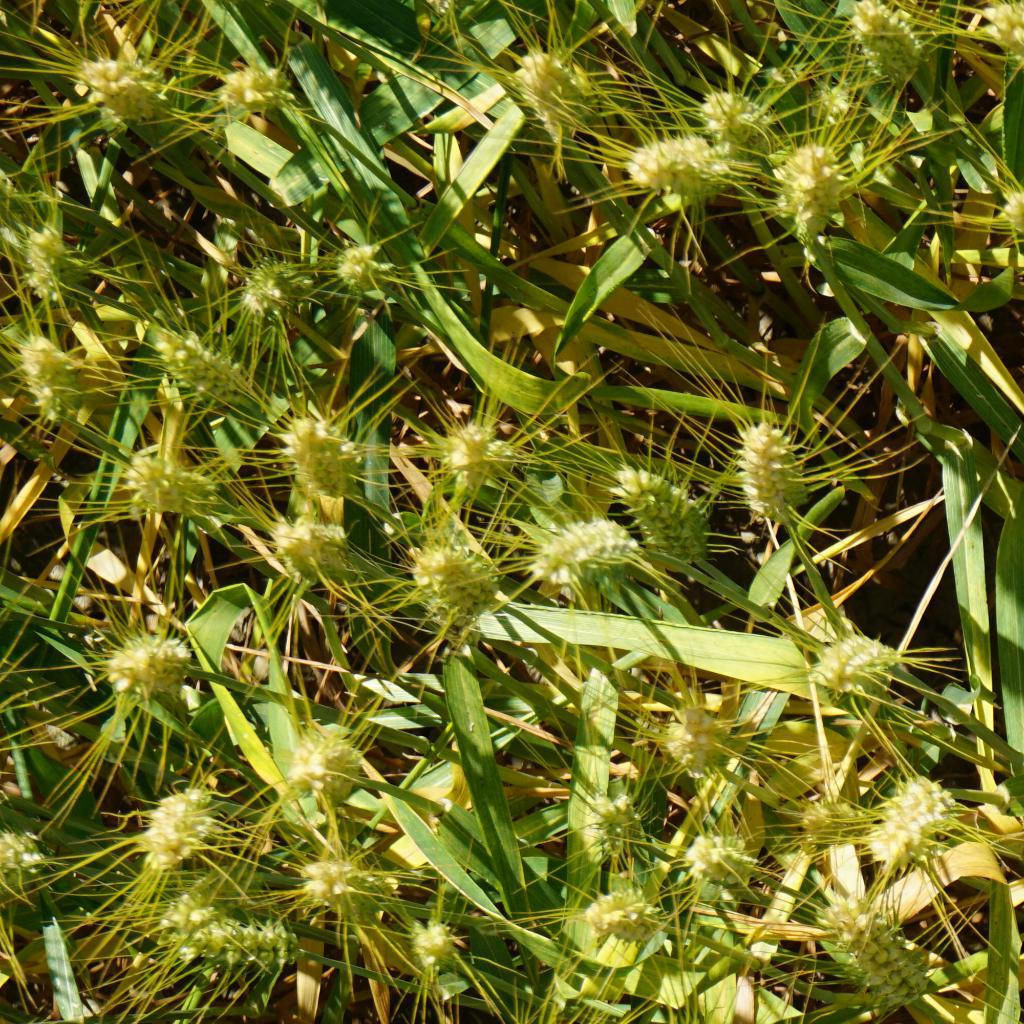0-0: (612, 118, 744, 211), (657, 697, 764, 798), (157, 326, 267, 419), (826, 902, 925, 1000), (173, 891, 275, 978), (828, 0, 931, 86), (760, 141, 844, 246), (291, 852, 403, 929), (411, 529, 505, 620), (624, 464, 710, 563), (803, 620, 906, 702), (856, 774, 945, 868), (94, 620, 198, 698), (728, 421, 801, 527), (74, 43, 169, 120), (200, 57, 297, 125), (431, 413, 512, 494), (507, 60, 598, 132), (677, 821, 763, 896), (271, 505, 352, 584), (283, 419, 366, 496), (134, 785, 212, 866), (15, 232, 90, 316), (281, 726, 362, 801), (326, 228, 409, 299), (15, 326, 84, 411), (792, 787, 879, 854), (123, 439, 200, 514), (584, 787, 655, 866), (529, 509, 620, 570), (230, 253, 303, 321), (581, 886, 651, 954), (681, 86, 774, 137), (397, 915, 468, 978), (972, 0, 1024, 84), (807, 70, 865, 134), (994, 183, 1024, 263), (1008, 1019, 1024, 1024)
